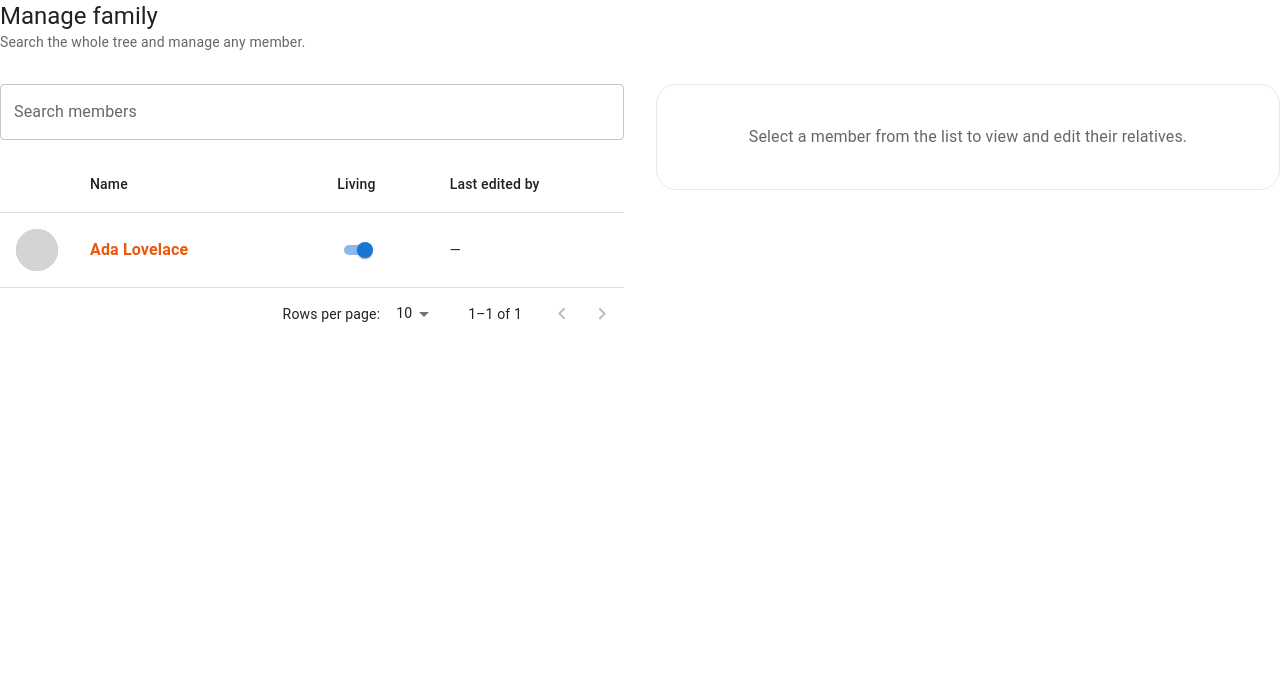
ManagePage (admin branch) › opens the Edit dialog fully pre-filled for a spouse card in the admin-focused panel
Click the text "Ada Lovelace": (139, 250) [90,240,188,259]
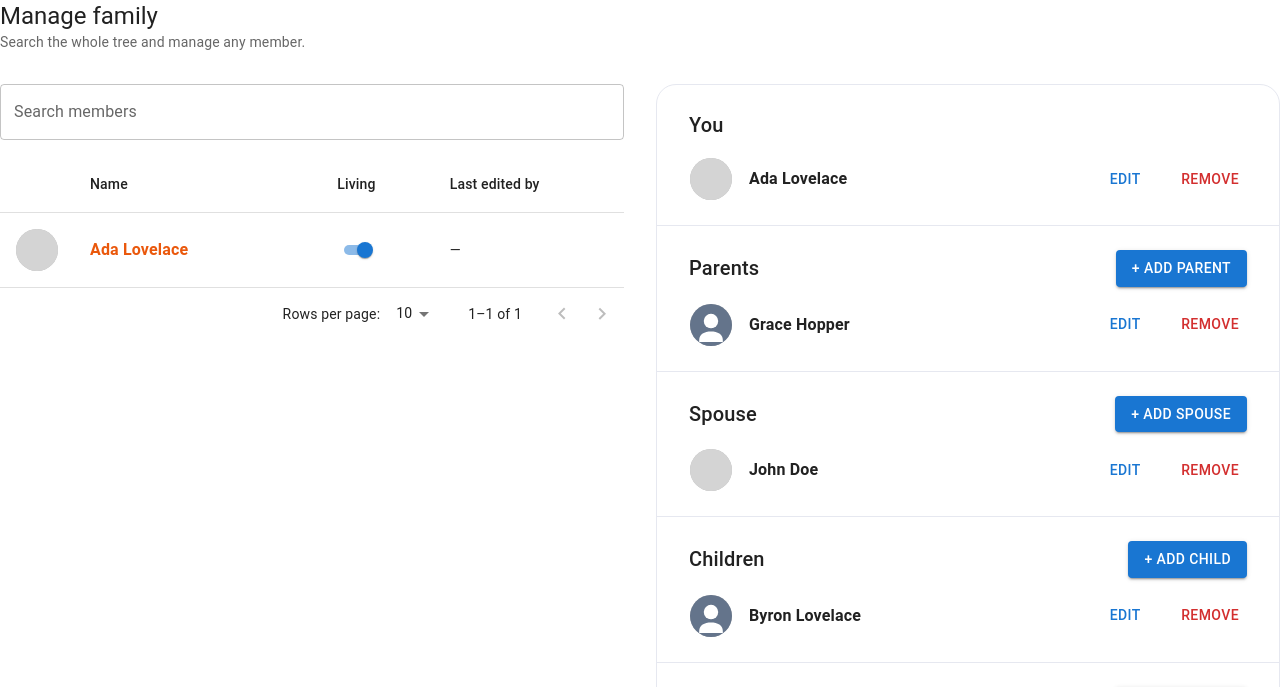
Expected: the text "John Doe" is shown, [749,458,818,482]
// Cards render in order: self, parent (mother), spouse, child, sibling.
Click the button "Edit" in the row of "John Doe": (1125, 470) [1093,452,1157,488]
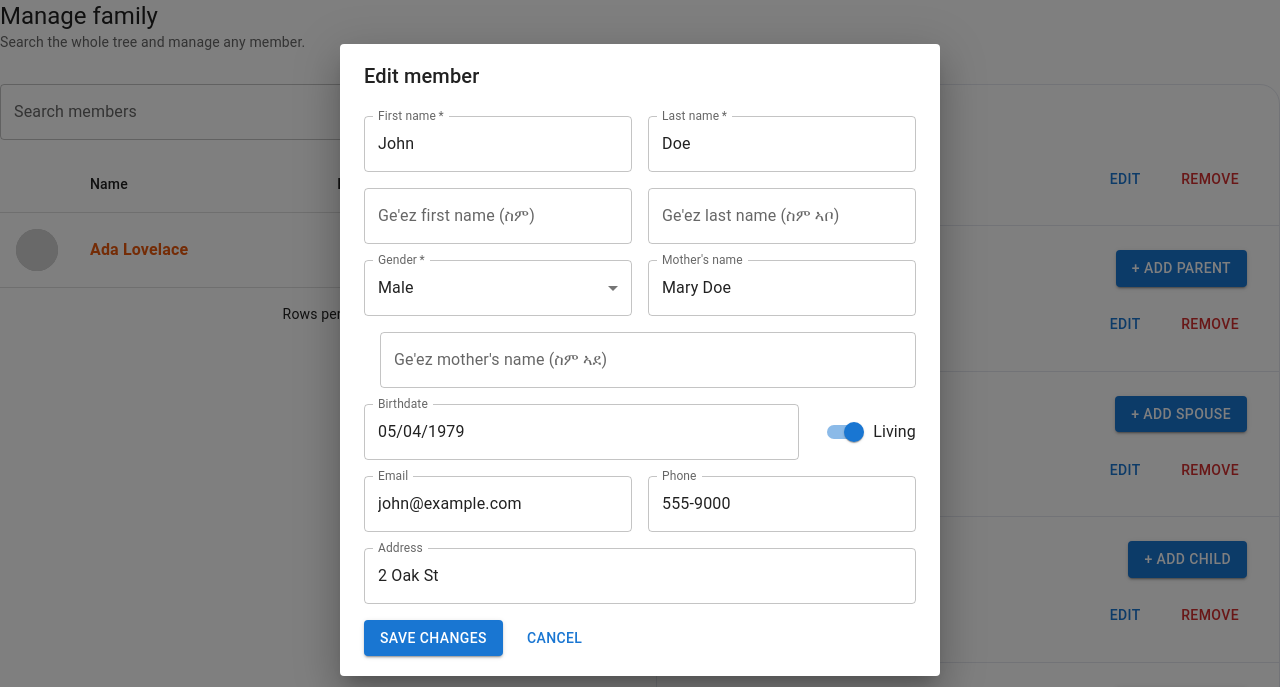
Expected: the heading "Edit member" is shown, [364,64,479,88]
Expected: the field labelled "First name *" holds "John", [364,116,632,172]
Expected: the field labelled "Last name *" holds "Doe", [648,116,916,172]
